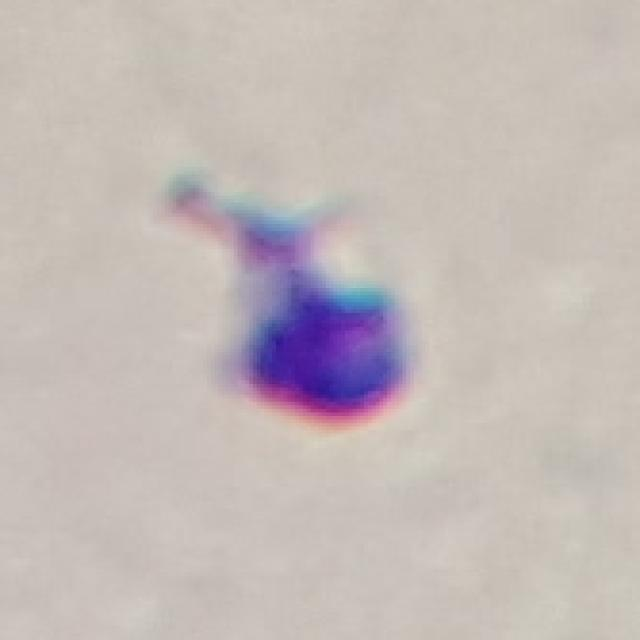non-sperm: (165, 165, 412, 429)
